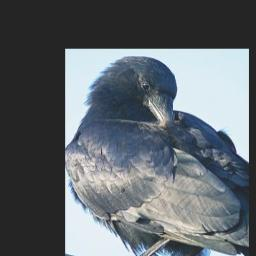Crow: (67, 55, 249, 256)
